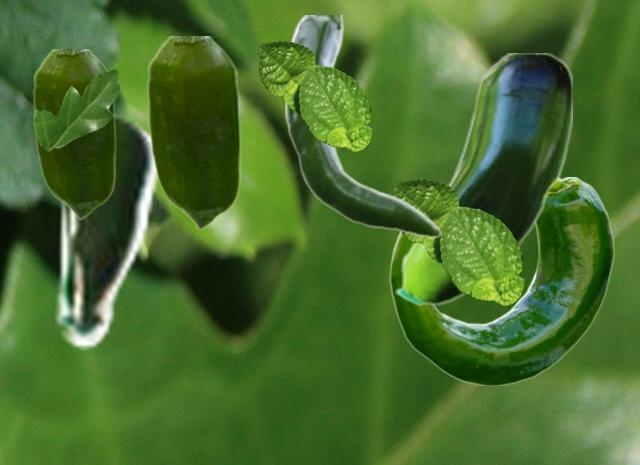green_chili: (389, 177, 614, 384), (394, 53, 571, 306), (285, 15, 441, 236), (49, 110, 161, 349), (146, 36, 240, 229), (32, 49, 115, 219)
